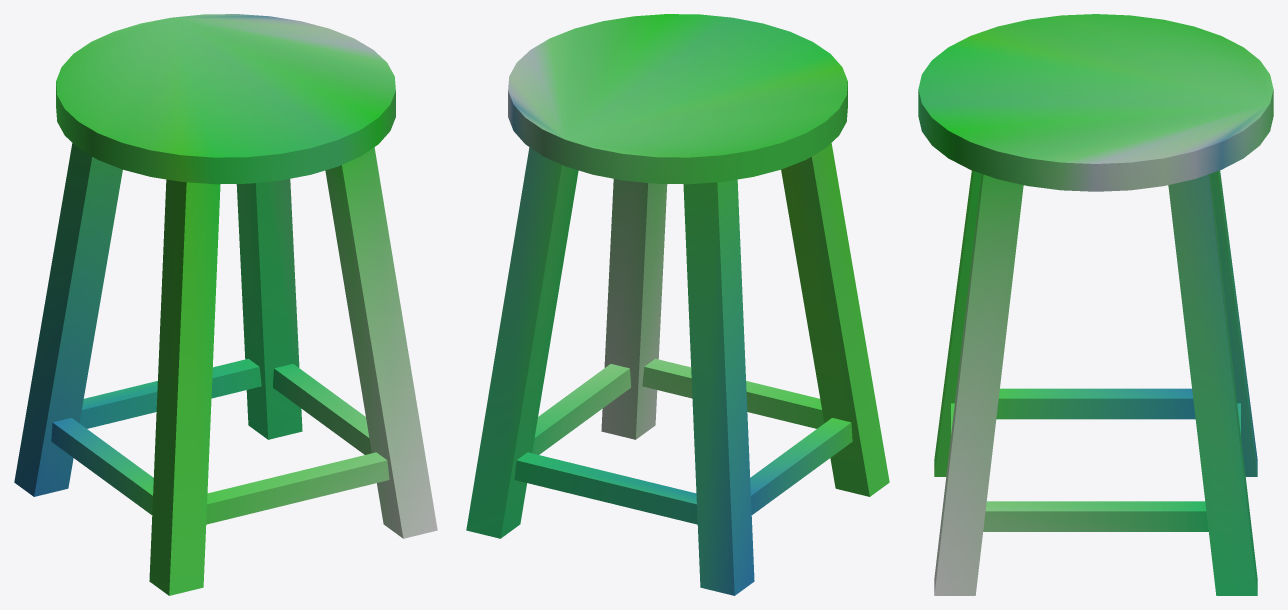
Rendered from Stool_2.fbx.
3 renders of one model, left to right at view 1: azimuth 30°, elevation 25°; view 2: azimuth 150°, elevation 25°; view 3: azimuth 270°, elevation 25°, orthographic. The views are drawn at different scales.
Visible parts, largest first — view 1: Stool_2; view 2: Stool_2; view 3: Stool_2.
Part boxes in pixels (x1,y1,x2,y2): Stool_2: [14, 14, 437, 595]; Stool_2: [466, 14, 889, 595]; Stool_2: [918, 14, 1273, 595].
Bounding box in the file's own units: 0.4298 × 0.5859 × 0.4298.
